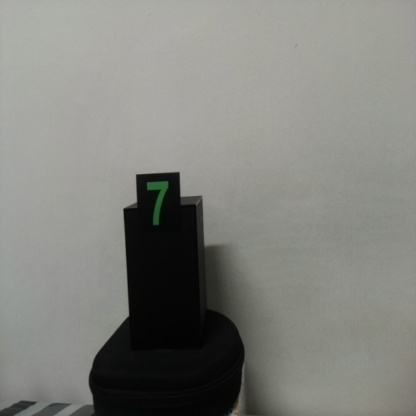id_7: (136, 174, 181, 242)
